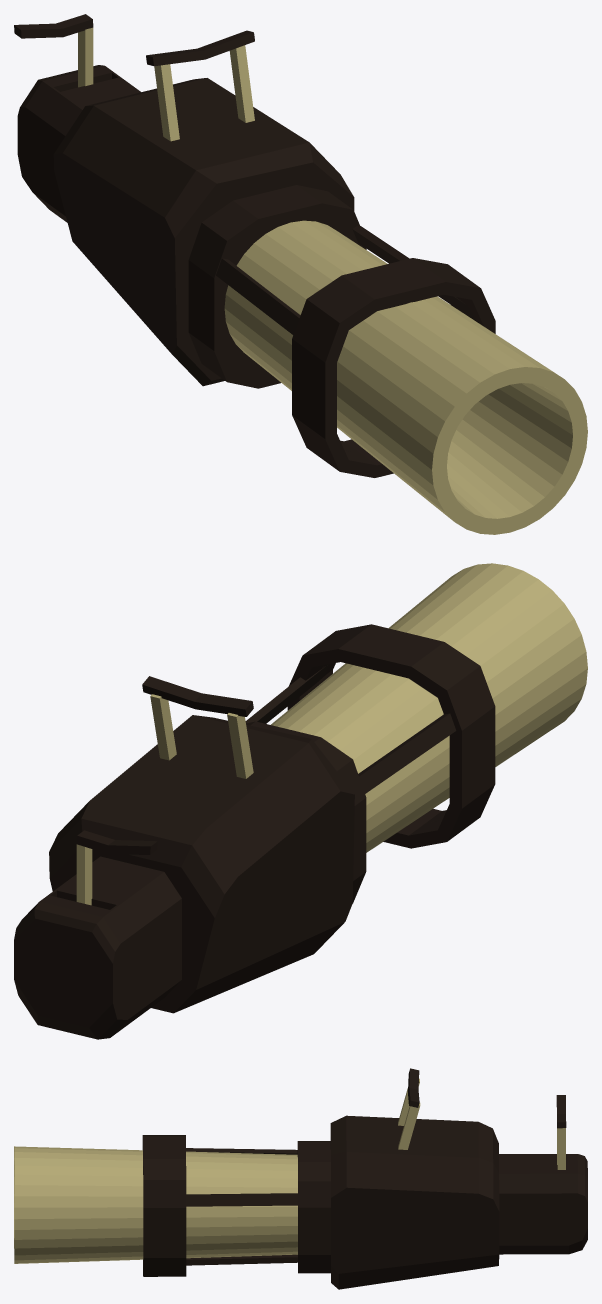
The model's file is cannon.fbx.
3 renders of one model, top to bottom at view 1: azimuth 30°, elevation 25°; view 2: azimuth 150°, elevation 25°; view 3: azimuth 270°, elevation 25°, orthographic. The views are drawn at different scales.
Visible parts, largest first — view 1: Cylinder.001, Cube.008, Cube.009, Cube.010, Cube.001, Cube.007, Cube.004, Cube.005, Cube.003, Cube.002; view 2: Cube.008, Cylinder.001, Cube.001, Cube.009, Cube.007, Cube.010, Cube.004, Cube.005, Cube.003, Cube.002; view 3: Cube.008, Cylinder.001, Cube.001, Cube.009, Cube.010, Cube.007, Cube.006, Cube.004, Cube.005, Cube.002, Cube.003.
Part boxes in pixels (x1,y1,x2,y2): Cylinder.001: (224,220,587,534); Cube.008: (53,78,354,386); Cube.009: (292,258,495,477); Cube.010: (188,185,366,388); Cube.001: (17,65,140,222); Cube.007: (216,225,476,334); Cube.004: (154,45,254,141); Cube.005: (146,30,254,66); Cube.003: (14,14,93,38); Cube.002: (78,27,93,87); Cube.008: (49,715,354,1013); Cylinder.001: (271,563,587,852); Cube.001: (14,856,181,1039); Cube.009: (287,624,495,848); Cube.007: (245,664,456,793); Cube.010: (246,721,366,903); Cube.004: (150,694,253,778); Cube.005: (142,676,253,716); Cube.003: (76,830,157,854); Cube.002: (76,844,92,905); Cube.008: (330,1115,499,1289); Cylinder.001: (14,1146,297,1263); Cube.001: (499,1154,587,1254); Cube.009: (142,1135,186,1276); Cube.010: (297,1141,330,1273); Cube.007: (186,1148,297,1206); Cube.006: (186,1254,297,1265); Cube.004: (398,1078,420,1149); Cube.005: (408,1068,419,1107); Cube.002: (557,1128,565,1169); Cube.003: (556,1095,566,1128).
Bounding box in the file's own units: 46.63 × 71.17 × 198.
